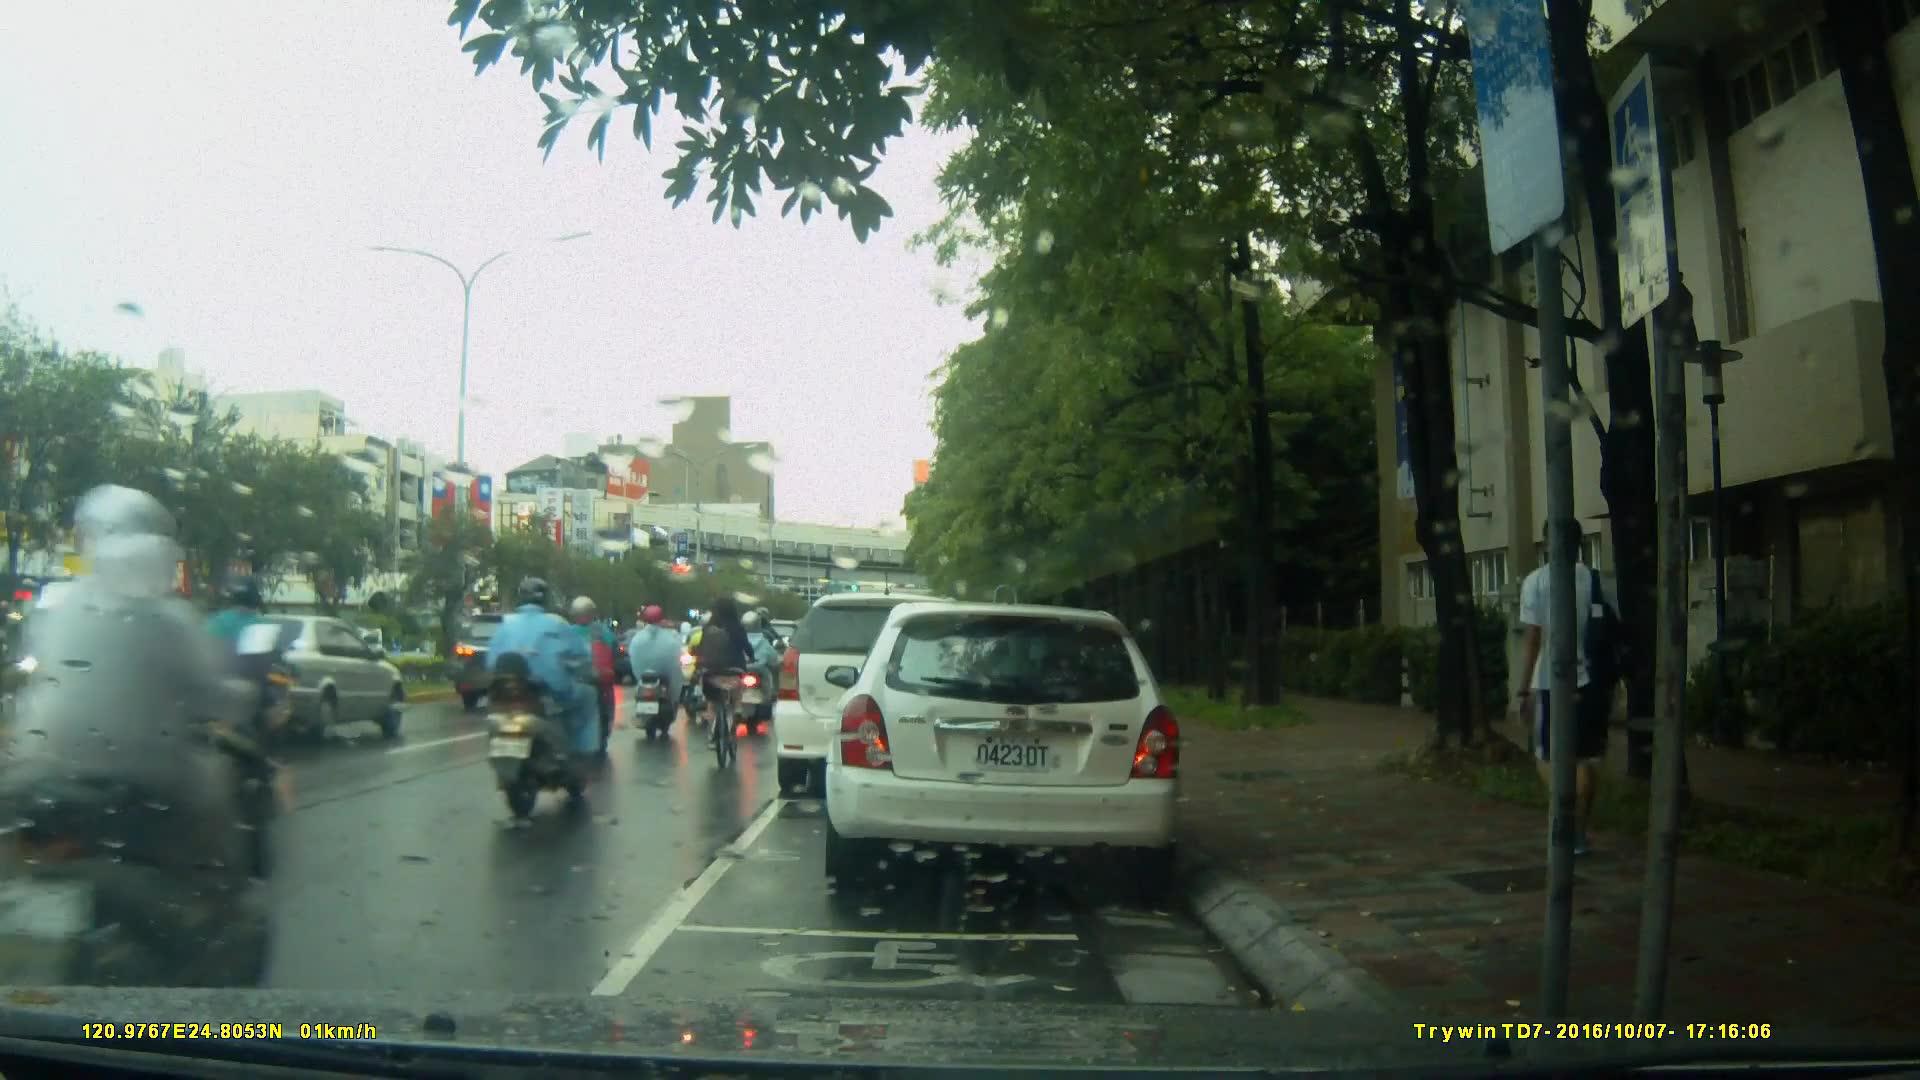pedestrian: (1515, 500, 1635, 898)
rider: (1, 486, 305, 1029), (485, 576, 610, 821), (180, 568, 284, 821), (690, 597, 751, 783), (553, 596, 622, 744), (629, 601, 688, 737), (728, 613, 779, 729), (682, 608, 725, 712)
vehicle: (822, 604, 1188, 882), (774, 595, 995, 802), (170, 611, 411, 746), (448, 610, 596, 710)
